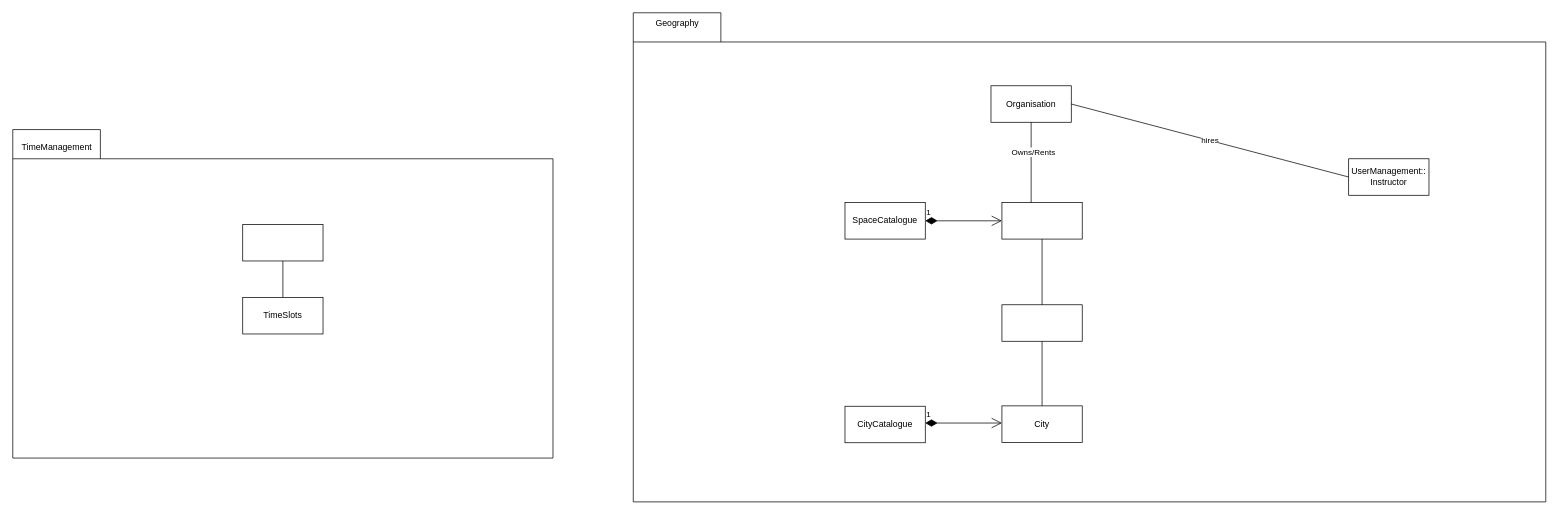
Some shapes in this 1559 by 515 pixel diagram are drawn without their labels. Each missing label, with the box of its shape:
Location: (1001, 304, 1082, 341)
Scheduale: (242, 224, 323, 261)
Space: (1001, 202, 1082, 239)
